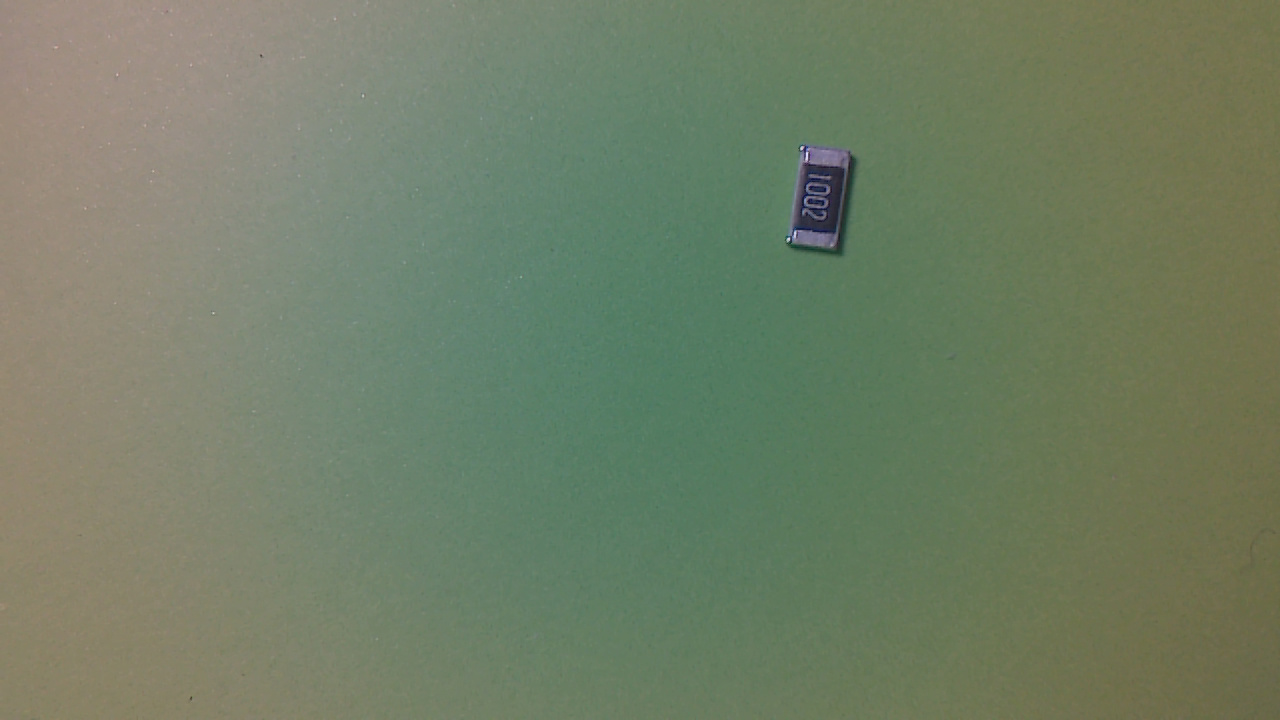Resistor: (789, 145, 862, 264)
